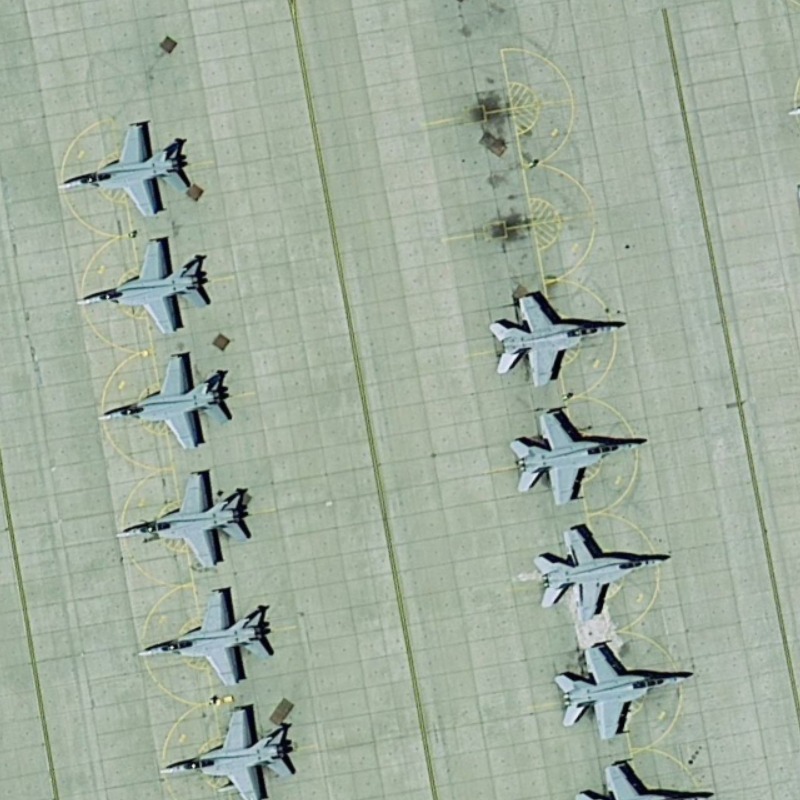A16: (127, 585, 280, 691), (502, 407, 653, 513), (92, 346, 237, 456), (550, 635, 695, 745), (526, 521, 676, 627), (109, 464, 255, 570), (68, 233, 215, 338), (482, 290, 632, 390), (51, 115, 195, 219), (153, 702, 300, 800)
